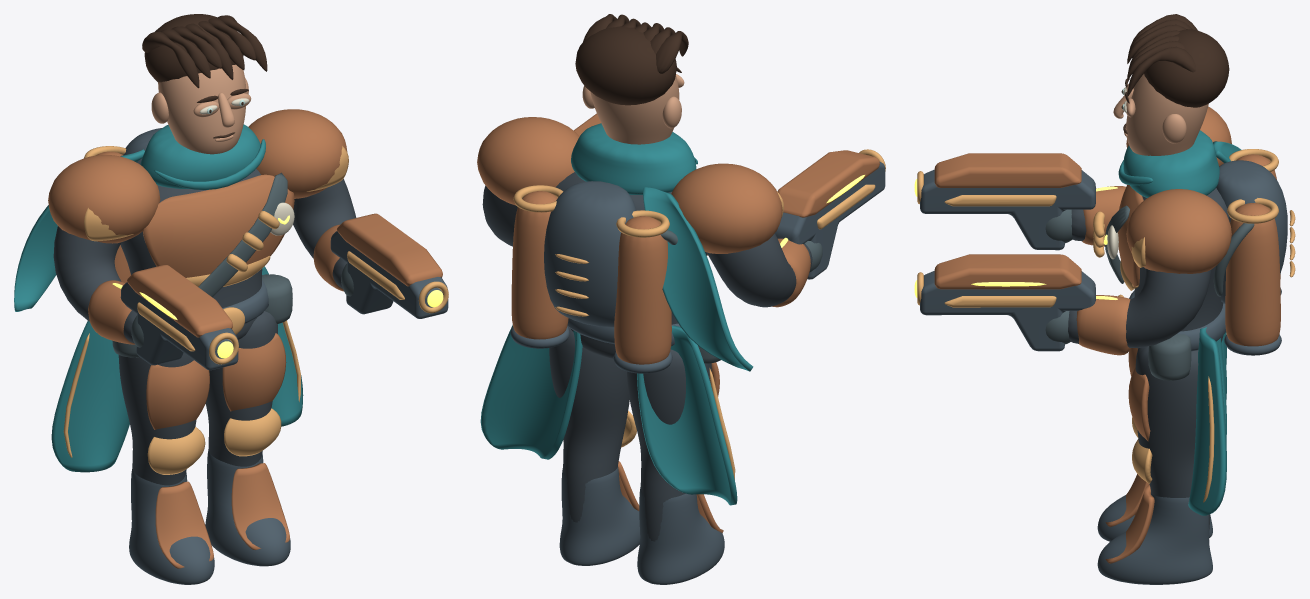
The model's file is BountyHunter.fbx.
3 renders of one model, left to right at view 1: azimuth 30°, elevation 25°; view 2: azimuth 150°, elevation 25°; view 3: azimuth 270°, elevation 25°, orthographic. The views are drawn at different scales.
Parts seen in each view (by area): view 1: Contoured breastplate, Split coat, Left curved pauldron, Right curved pauldron, Human face, Left boot, Right boot, Woven scarf collar, Right pistol copper slide, Left sleeve, Left tailored leg, Left pistol copper slide (+32 smaller); view 2: Jetpack central shell, Split coat, Right tailored leg, Split coat.001, Left curved pauldron, Jet turbine housing, Scarf tail, Right curved pauldron, Woven scarf collar, Hair cap, Left boot, Right boot (+16 smaller); view 3: Right curved pauldron, Right boot, Jet turbine housing.001, Right tailored leg, Split coat.001, Right sleeve, Left pistol chassis, Right pistol chassis, Left pistol copper slide, Right pistol copper slide, Hair cap, Woven scarf collar (+25 smaller).
Part boxes in pixels (left/top/right/bottom): Contoured breastplate: left=143, top=174, right=294, bottom=277; Split coat: left=51, top=321, right=129, bottom=472; Left curved pauldron: left=48, top=155, right=160, bottom=243; Right curved pauldron: left=248, top=109, right=347, bottom=198; Human face: left=158, top=64, right=246, bottom=154; Left boot: left=129, top=469, right=214, bottom=584; Right boot: left=205, top=449, right=290, bottom=566; Woven scarf collar: left=140, top=124, right=260, bottom=188; Right pistol copper slide: left=337, top=213, right=442, bottom=286; Left sleeve: left=53, top=226, right=136, bottom=343; Left tailored leg: left=118, top=352, right=196, bottom=485; Left pistol copper slide: left=127, top=265, right=232, bottom=337; Jetpack central shell: left=544, top=181, right=636, bottom=327; Split coat: left=637, top=325, right=737, bottom=505; Right tailored leg: left=549, top=327, right=629, bottom=522; Split coat.001: left=480, top=325, right=582, bottom=459; Left curved pauldron: left=671, top=163, right=782, bottom=253; Jet turbine housing: left=614, top=216, right=671, bottom=364; Scarf tail: left=643, top=187, right=753, bottom=371; Right curved pauldron: left=477, top=117, right=579, bottom=205; Woven scarf collar: left=571, top=123, right=696, bottom=194; Hair cap: left=575, top=26, right=676, bottom=105; Left boot: left=637, top=487, right=724, bottom=584; Right boot: left=559, top=467, right=640, bottom=565; Right curved pauldron: left=1126, top=189, right=1231, bottom=273; Right boot: left=1097, top=492, right=1212, bottom=584; Jet turbine housing.001: left=1225, top=203, right=1280, bottom=346; Right tailored leg: left=1135, top=346, right=1210, bottom=530; Split coat.001: left=1188, top=327, right=1226, bottom=515; Right sleeve: left=1068, top=268, right=1211, bottom=347; Left pistol chassis: left=920, top=169, right=1095, bottom=250; Right pistol chassis: left=920, top=271, right=1095, bottom=351; Left pistol copper slide: left=934, top=153, right=1081, bottom=187; Right pistol copper slide: left=934, top=254, right=1081, bottom=289; Hair cap: left=1144, top=29, right=1229, bottom=107; Woven scarf collar: left=1123, top=130, right=1219, bottom=197.
Bounding box in the file's own units: 1.44 × 2.45 × 1.62.
